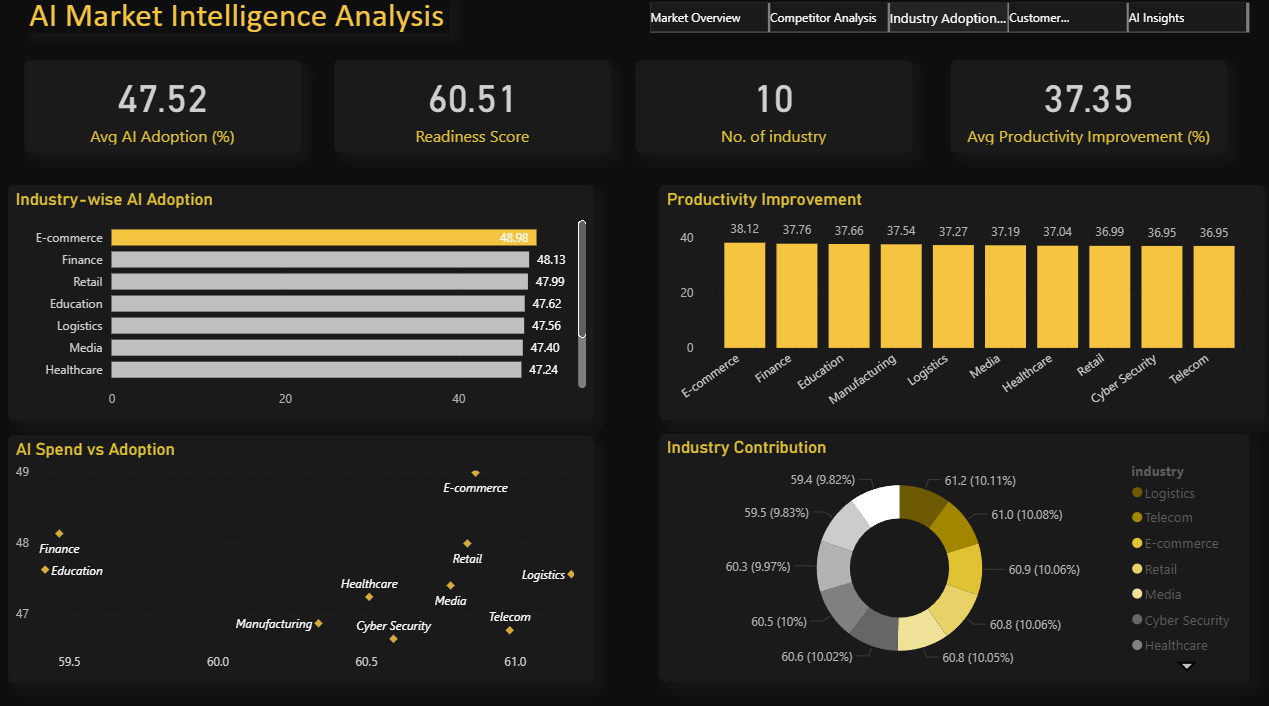

This screenshot's page, from the dashboard's own definition file:
{"tool":"powerbi","page":{"name":"Industry Adoption & Market Impact","canvas":[1280,720],"ordinal":2},"visuals":[{"type":"textbox","title":"AI Market Intelligence Analysis","box":[31,0,423.2,38.1],"z":0},{"type":"pageNavigator","box":[654.3,8.7,595.9,29.9],"z":1},{"type":"card","fields":{"Values":["Avg(Adoption.ai_adoption_rate_percent)"]},"box":[31.1,65.9,274.9,92.1],"z":2},{"type":"card","fields":{"Values":["Avg(Adoption.avg_ai_spend_million_usd)"]},"box":[339.6,65.9,274.9,92.1],"z":3},{"type":"card","fields":{"Values":["Count(Adoption.industry)"]},"box":[639.4,65.9,274.9,92.1],"z":4},{"type":"card","fields":{"Values":["Avg(Adoption.productivity_improvement_percent)"]},"box":[952.9,65.9,274.9,92.1],"z":5},{"type":"barChart","title":"Industry-wise AI Adoption","fields":{"Category":["Adoption.industry"],"Y":["Avg(Adoption.ai_adoption_rate_percent)"]},"box":[14.9,190.3,583.4,233.9],"z":6},{"type":"scatterChart","title":"AI Spend vs Adoption","fields":{"X":["Avg(Adoption.avg_ai_spend_million_usd)"],"Y":["Avg(Adoption.ai_adoption_rate_percent)"],"Category":["Adoption.industry"]},"box":[14.9,439.1,583.4,246.3],"z":7},{"type":"clusteredColumnChart","title":"Productivity Improvement","fields":{"Category":["Adoption.industry"],"Y":["Avg(Adoption.productivity_improvement_percent)"]},"box":[663,190.3,602.1,233.9],"z":8},{"type":"donutChart","title":"Industry Contribution ","fields":{"Category":["Adoption.industry"],"Y":["Avg(Adoption.avg_ai_spend_million_usd)"]},"box":[663,437.9,587.1,247.5],"z":9}]}

Visuals, with their boxes in screenshot pixels (x1, y1, x2, y2), scaled from the page's 1280x720 canvas onto the 1269x706 screenshot:
"AI Market Intelligence Analysis" textbox: x1=31 y1=0 x2=450 y2=37
pageNavigator: x1=649 y1=9 x2=1239 y2=38
card - Avg(Adoption.ai_adoption_rate_percent): x1=31 y1=65 x2=303 y2=155
card - Avg(Adoption.avg_ai_spend_million_usd): x1=337 y1=65 x2=609 y2=155
card - Count(Adoption.industry): x1=634 y1=65 x2=906 y2=155
card - Avg(Adoption.productivity_improvement_percent): x1=945 y1=65 x2=1217 y2=155
"Industry-wise AI Adoption" barChart: x1=15 y1=187 x2=593 y2=416
"AI Spend vs Adoption" scatterChart: x1=15 y1=431 x2=593 y2=672
"Productivity Improvement" clusteredColumnChart: x1=657 y1=187 x2=1254 y2=416
"Industry Contribution " donutChart: x1=657 y1=429 x2=1239 y2=672
